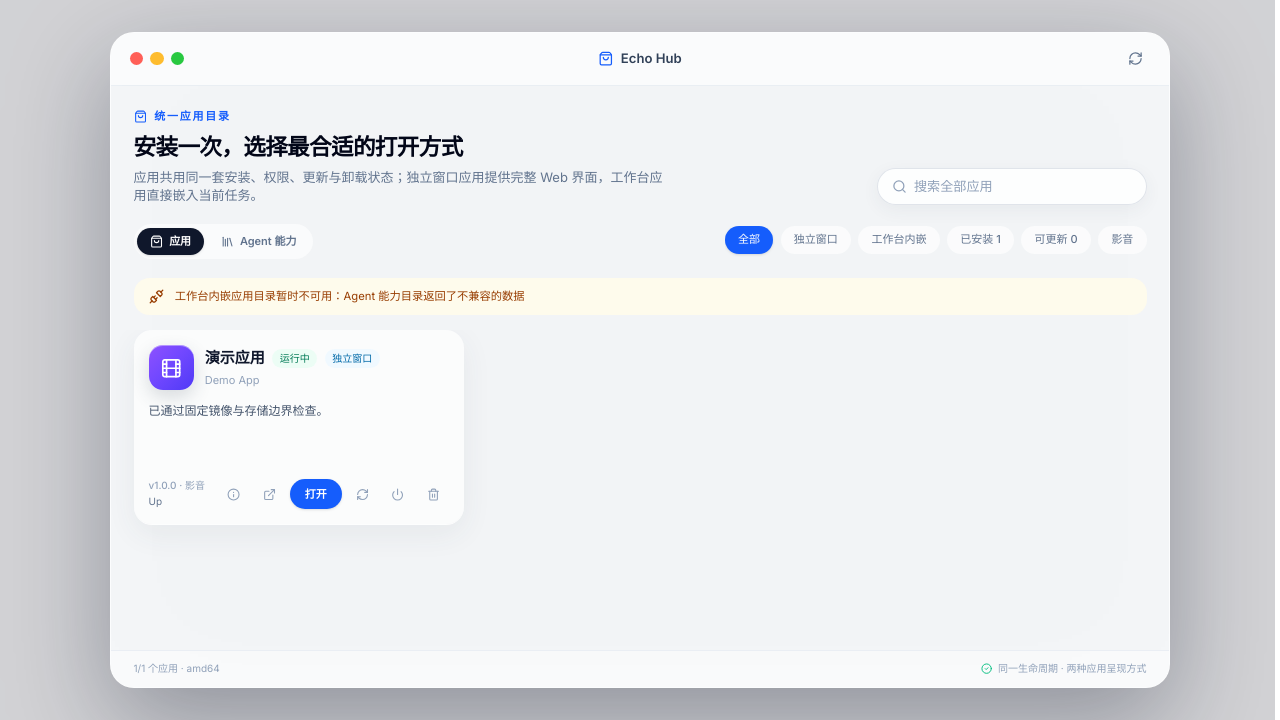
Test: Echo Hub panel › keeps open primary and routes stop through an all-service safety plan
Click the button "打开" at (316, 494), box top-left (290, 479), bottom-right (342, 509)
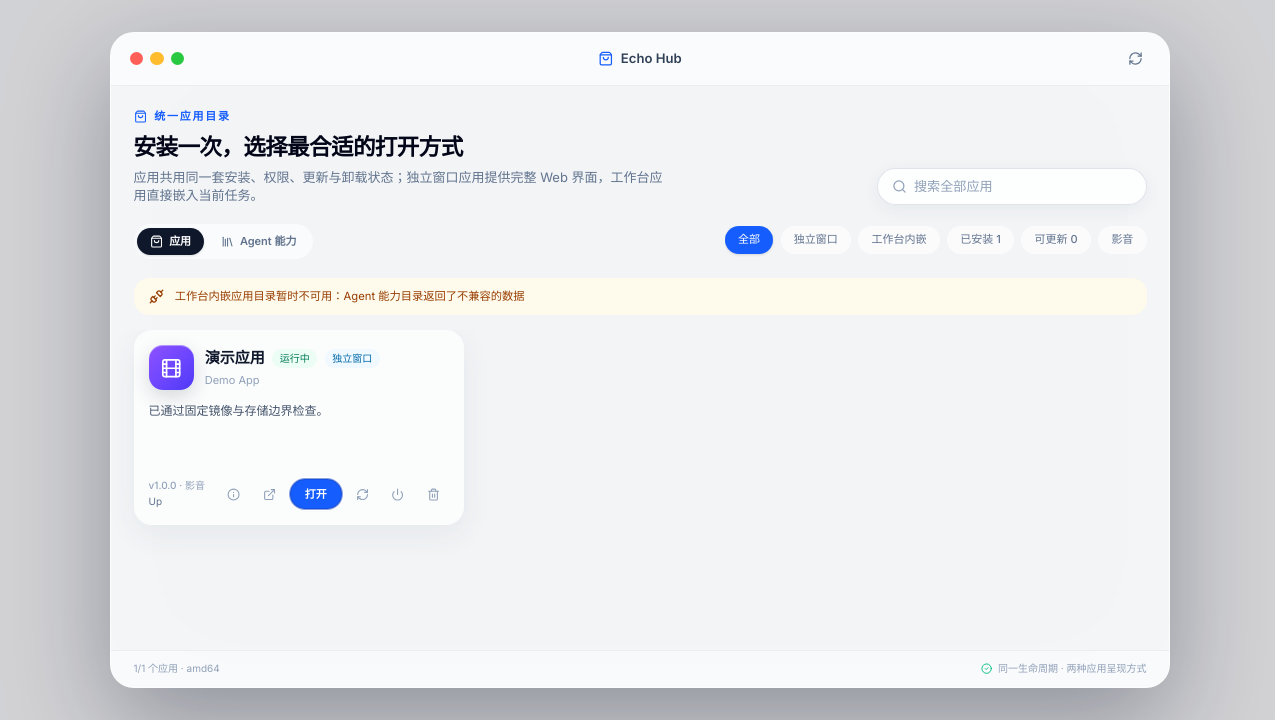
Check: the text "v1.0.0 · 影音" is shown, box top-left (148, 478), bottom-right (205, 492)
Click the button named "停止 演示应用" at (398, 494), box top-left (383, 479), bottom-right (413, 509)
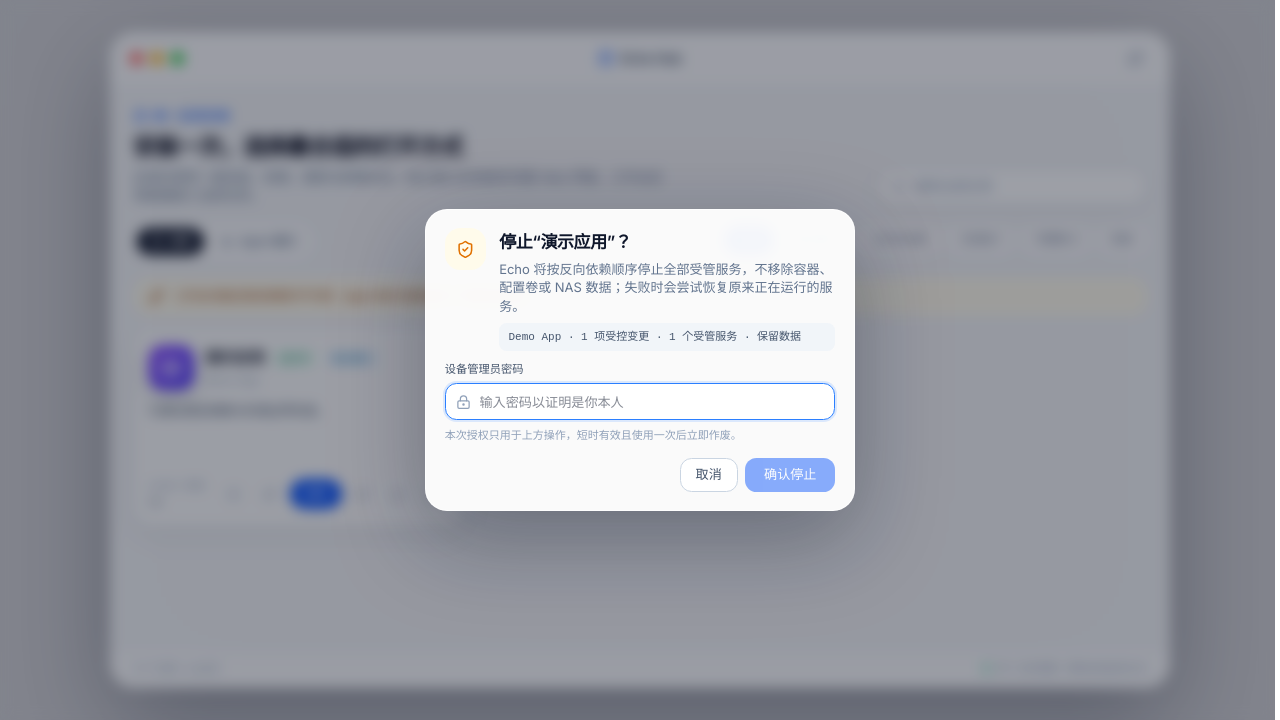
Check: the button named "卸载 演示应用" is shown, box top-left (419, 479), bottom-right (449, 509)
Check: the dialog "停止“演示应用”？" shows "停止全部受管服务", box top-left (499, 260), bottom-right (832, 314)
